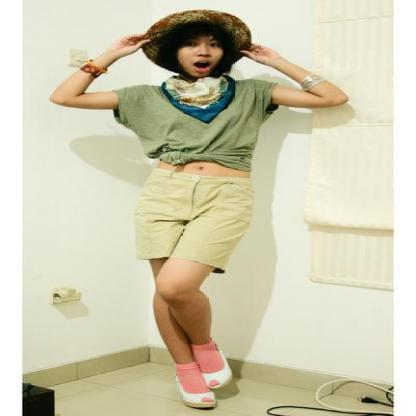hat: (122, 10, 250, 58)
shirt: (106, 76, 286, 171)
shoe: (181, 363, 231, 409)
shorts: (130, 168, 253, 272)
